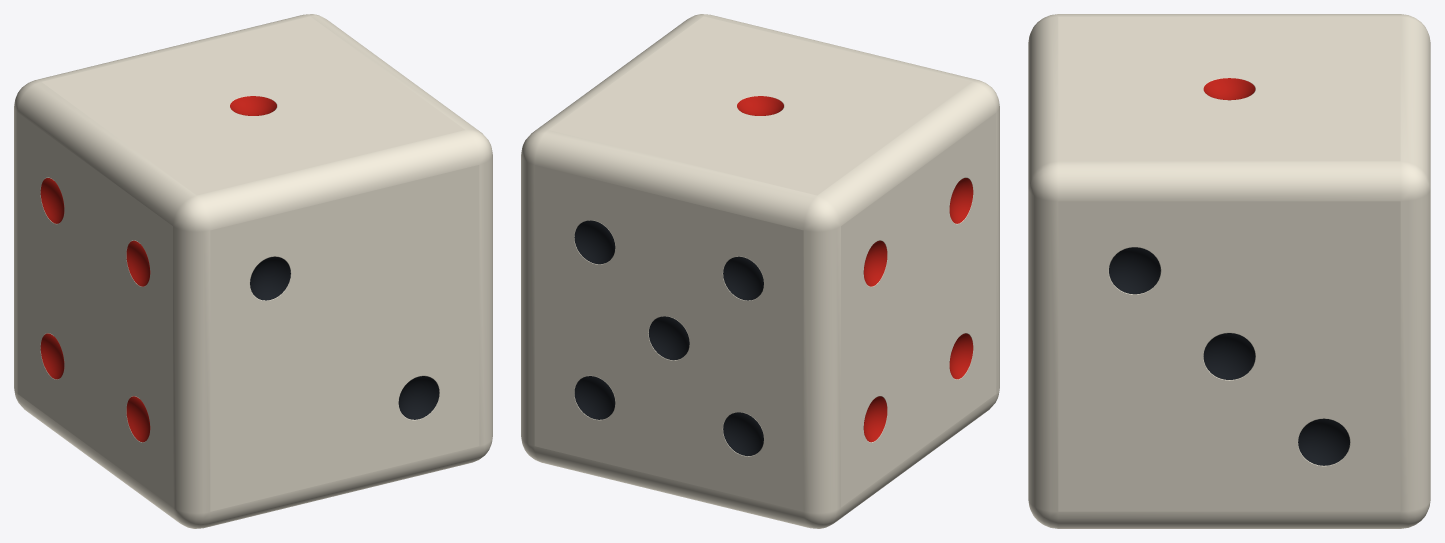
File: ivory-recessed.glb
The picture shows the model from 3 angles, left to right: view 1: azimuth 30°, elevation 25°; view 2: azimuth 150°, elevation 25°; view 3: azimuth 270°, elevation 25°; orthographic projection. The views are drawn at different scales.
Visible parts, largest first — view 1: GEO-RoundedResinBody, GEO-Pip-2-02, GEO-Pip-2-01, GEO-Pip-4-03, GEO-Pip-4-04, GEO-Pip-4-01, GEO-Pip-4-02, GEO-Pip-1-01; view 2: GEO-RoundedResinBody, GEO-Pip-5-05, GEO-Pip-5-02, GEO-Pip-5-04, GEO-Pip-5-01, GEO-Pip-5-03, GEO-Pip-4-03, GEO-Pip-4-04, GEO-Pip-4-01, GEO-Pip-4-02, GEO-Pip-1-01; view 3: GEO-RoundedResinBody, GEO-Pip-3-02, GEO-Pip-3-01, GEO-Pip-3-03, GEO-Pip-1-01.
Boxes of the visible parts, bbox=[...] form: GEO-RoundedResinBody: bbox=[14, 14, 492, 528]; GEO-Pip-2-02: bbox=[398, 376, 439, 419]; GEO-Pip-2-01: bbox=[250, 256, 290, 300]; GEO-Pip-4-03: bbox=[126, 240, 150, 286]; GEO-Pip-4-04: bbox=[40, 178, 64, 223]; GEO-Pip-4-01: bbox=[126, 396, 150, 442]; GEO-Pip-4-02: bbox=[40, 333, 64, 379]; GEO-Pip-1-01: bbox=[230, 96, 276, 115]; GEO-RoundedResinBody: bbox=[521, 14, 999, 528]; GEO-Pip-5-05: bbox=[574, 220, 615, 264]; GEO-Pip-5-02: bbox=[574, 376, 615, 419]; GEO-Pip-5-04: bbox=[723, 256, 763, 300]; GEO-Pip-5-01: bbox=[723, 412, 763, 456]; GEO-Pip-5-03: bbox=[648, 316, 689, 360]; GEO-Pip-4-03: bbox=[949, 178, 973, 223]; GEO-Pip-4-04: bbox=[863, 240, 887, 286]; GEO-Pip-4-01: bbox=[949, 333, 973, 379]; GEO-Pip-4-02: bbox=[863, 396, 887, 442]; GEO-Pip-1-01: bbox=[737, 96, 783, 115]; GEO-RoundedResinBody: bbox=[1028, 14, 1430, 528]; GEO-Pip-3-02: bbox=[1203, 333, 1255, 379]; GEO-Pip-3-01: bbox=[1109, 247, 1160, 294]; GEO-Pip-3-03: bbox=[1298, 418, 1349, 465]; GEO-Pip-1-01: bbox=[1203, 78, 1255, 100].
Bounding box in the file's own units: 0.016 × 0.016 × 0.016.
